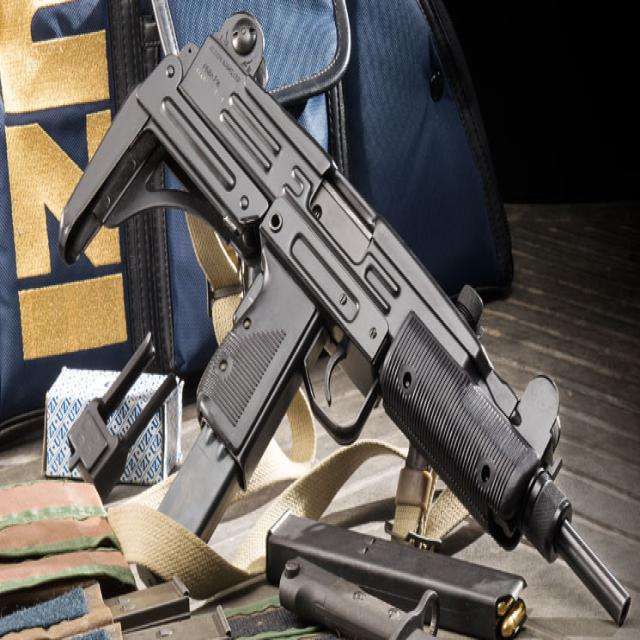SMG: (59, 14, 630, 623)
